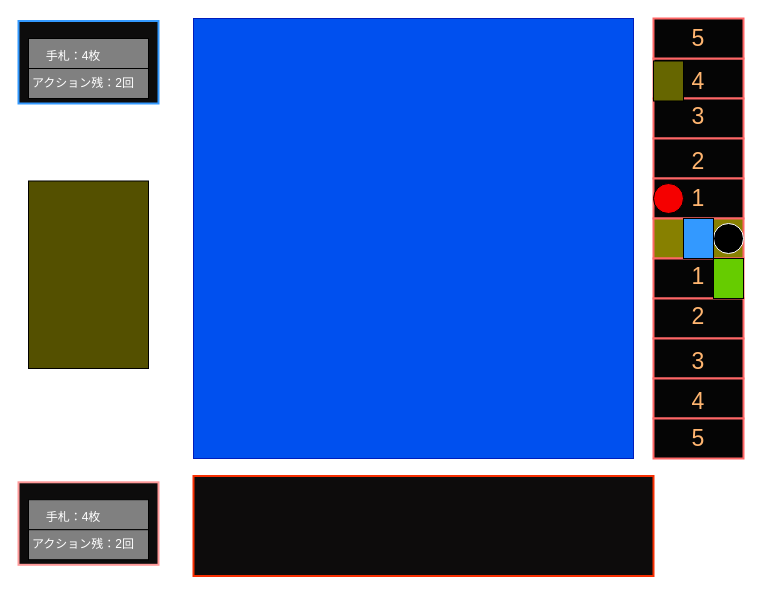
Image size: 761x594. Some labels were removed from this diagram. The centre of each missing label's shape, as x and y in pixels:
カードエリア: the point at 423,525
獲得トークンエリア: the point at 88,274
証拠エリア: the point at 413,238
